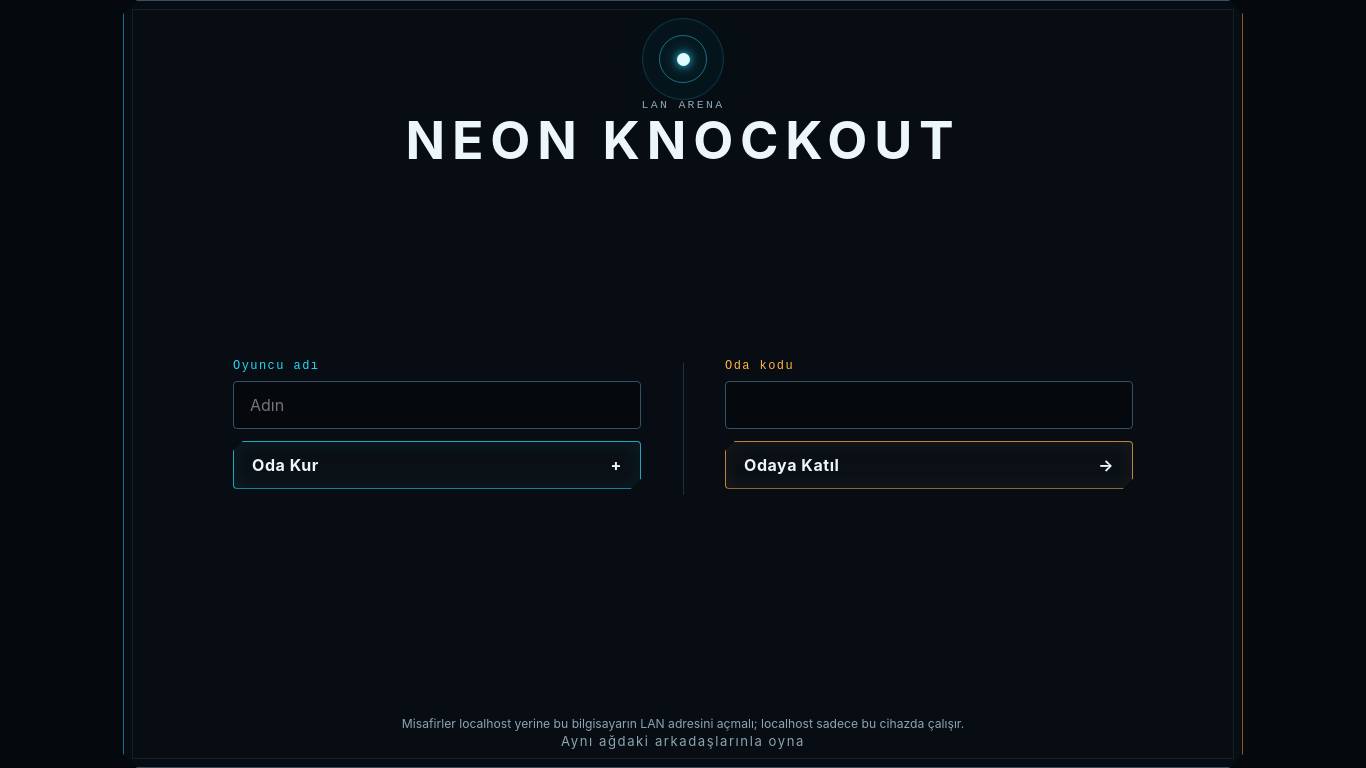
LandingScreen › keeps entered values after a rejected join
Type "Ada" into the field labelled "Oyuncu adı" at coordinates (437, 405), box [233,381,641,429]
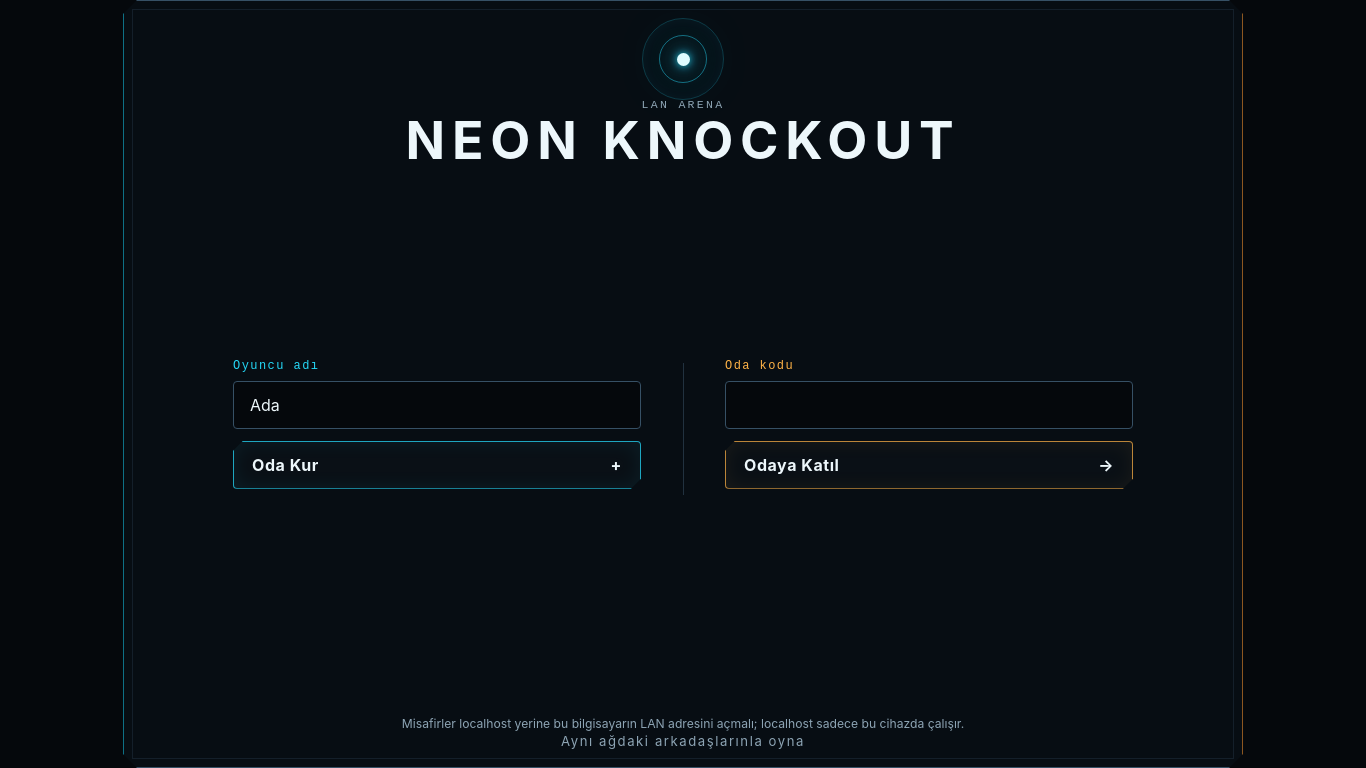
Type " ab2z " into the field labelled "Oda kodu" at coordinates (929, 405), box [725,381,1133,429]
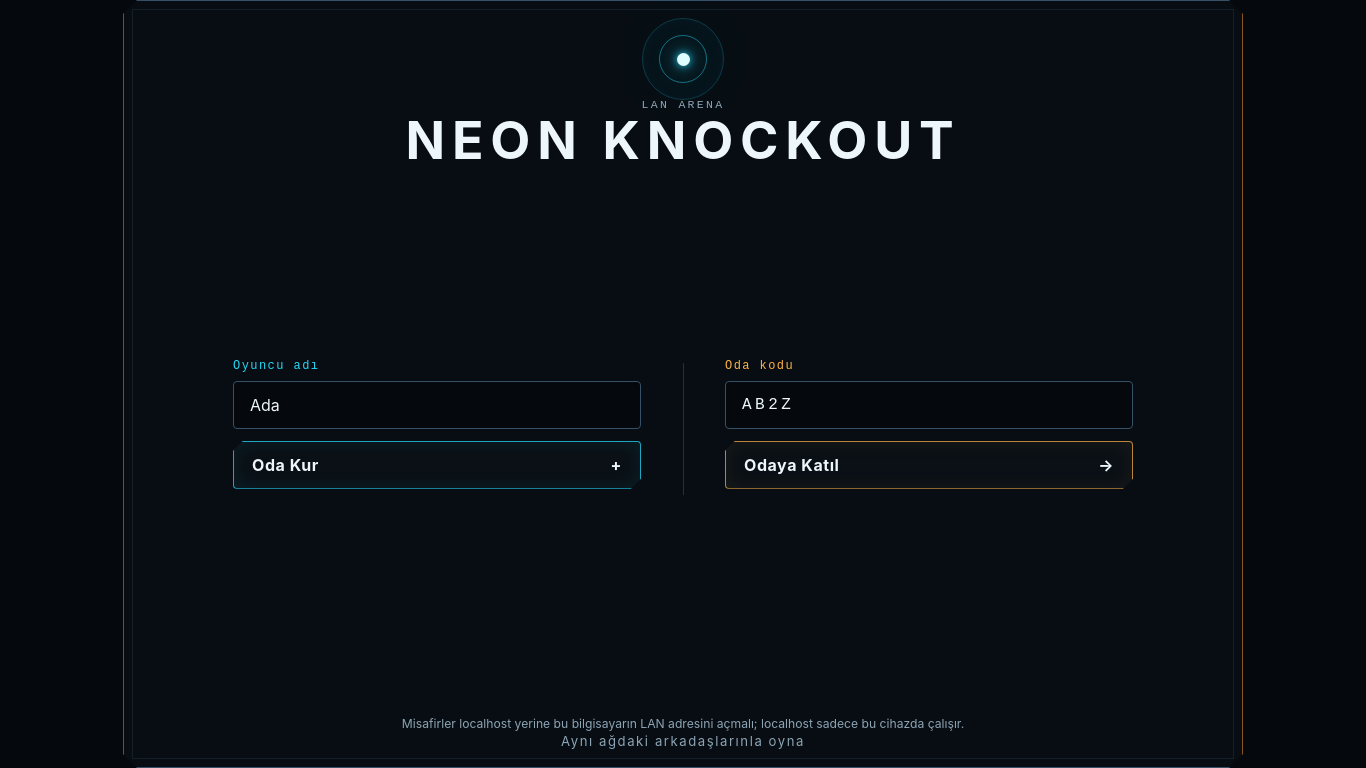
Click the button "Odaya Katıl →" at coordinates (792, 465), box [725,441,1133,489]
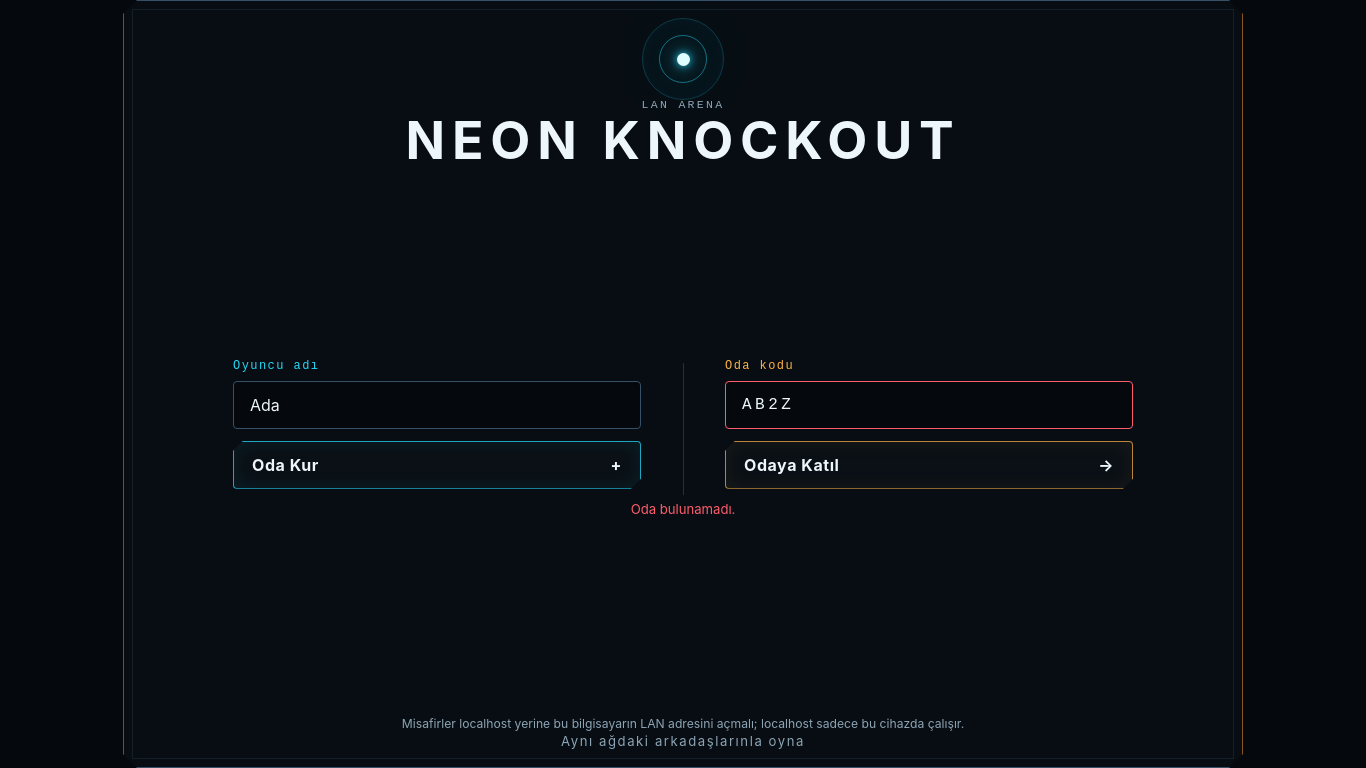
Now the text "Oda bulunamadı." is shown, box [631,501,735,517]
